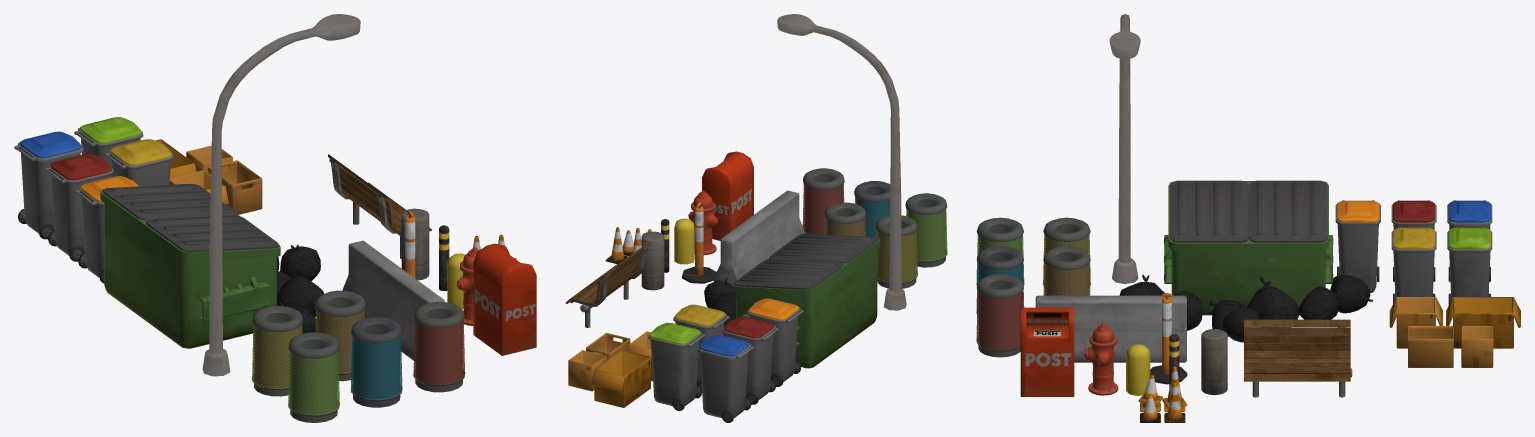
Rendered from pStreetProps.glb.
3 views of the same model, side by side, from view 1: azimuth 30°, elevation 25°; view 2: azimuth 150°, elevation 25°; view 3: azimuth 270°, elevation 25° (orthographic). The views are drawn at different scales.
Visible parts, largest first — view 1: Object_80, Object_82, Object_114, Object_112, Object_110, Object_90, Object_92, Object_88, Object_86, Object_84, Object_58, Object_20 (+21 smaller); view 2: Object_80, Object_82, Object_112, Object_110, Object_114, Object_20, Object_36, Object_54, Object_90, Object_92, Object_86, Object_4 (+22 smaller); view 3: Object_82, Object_80, Object_76, Object_110, Object_58, Object_114, Object_112, Object_92, Object_54, Object_4, Object_84, Object_36 (+18 smaller).
Part boxes in pixels (bbox=[...]): Object_80: bbox=[100, 190, 280, 348]; Object_82: bbox=[102, 183, 279, 252]; Object_114: bbox=[473, 243, 536, 355]; Object_112: bbox=[202, 14, 360, 376]; Object_110: bbox=[342, 240, 444, 360]; Object_90: bbox=[288, 332, 339, 422]; Object_92: bbox=[413, 301, 465, 392]; Object_88: bbox=[350, 317, 402, 407]; Object_86: bbox=[251, 306, 303, 396]; Object_84: bbox=[315, 290, 365, 381]; Object_58: bbox=[277, 244, 323, 317]; Object_20: bbox=[18, 142, 83, 233]; Object_80: bbox=[732, 238, 880, 368]; Object_82: bbox=[733, 233, 878, 289]; Object_112: bbox=[777, 14, 906, 310]; Object_110: bbox=[714, 190, 805, 285]; Object_114: bbox=[702, 151, 753, 240]; Object_20: bbox=[697, 343, 750, 417]; Object_36: bbox=[648, 331, 701, 405]; Object_54: bbox=[591, 350, 652, 407]; Object_90: bbox=[905, 193, 947, 267]; Object_92: bbox=[802, 168, 844, 234]; Object_86: bbox=[876, 215, 917, 288]; Object_4: bbox=[687, 307, 803, 381]; Object_82: bbox=[1170, 180, 1327, 242]; Object_80: bbox=[1164, 181, 1333, 315]; Object_76: bbox=[1244, 319, 1350, 381]; Object_110: bbox=[1035, 295, 1186, 362]; Object_58: bbox=[1174, 275, 1373, 342]; Object_114: bbox=[1020, 307, 1074, 396]; Object_112: bbox=[1109, 14, 1140, 283]; Object_92: bbox=[976, 274, 1023, 357]; Object_54: bbox=[1446, 297, 1520, 348]; Object_4: bbox=[1335, 200, 1486, 293]; Object_84: bbox=[1043, 246, 1090, 295]; Object_36: bbox=[1447, 230, 1492, 299].
Size of the model in its own units: 4.46 by 4.11 by 6.84.
38 materials, 38 textured.
